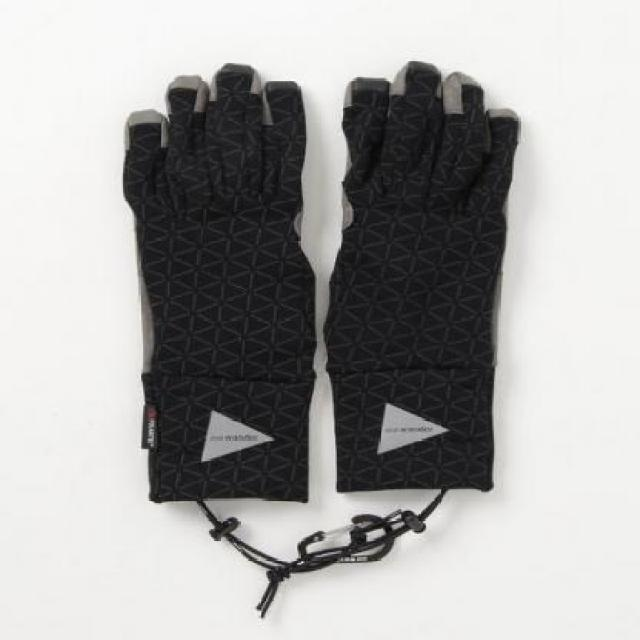Gloves: (323, 56, 523, 499), (124, 62, 315, 503)
